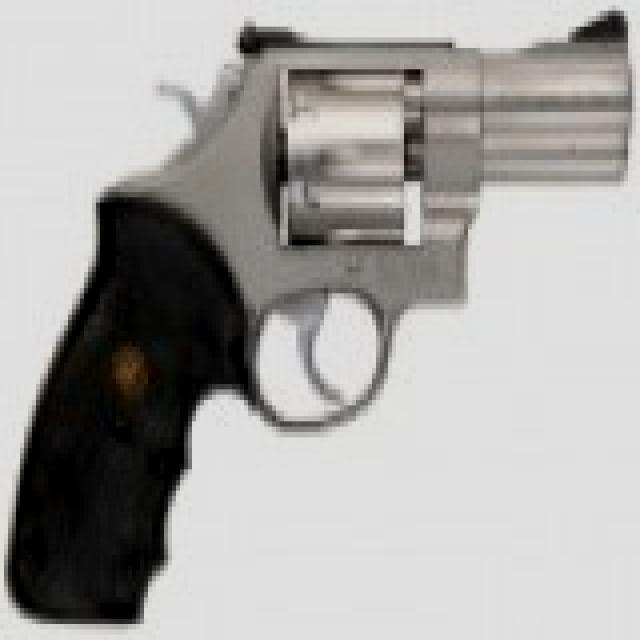pistol: (0, 5, 628, 603)
